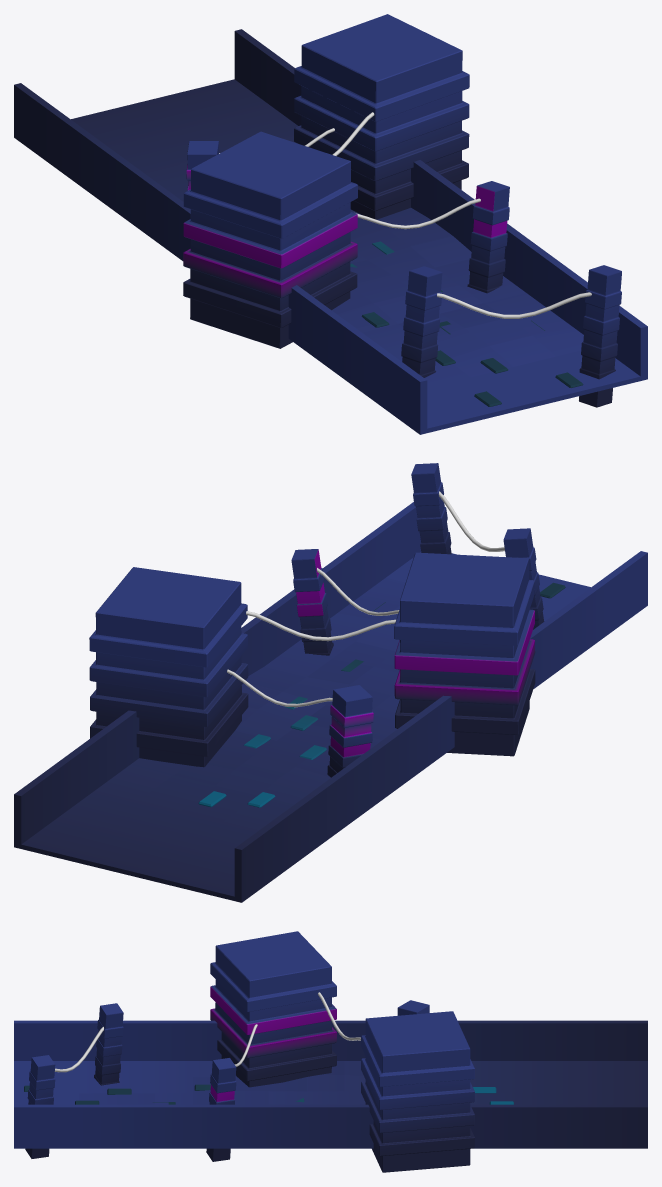
Rendered from Поле .fbx.
The picture shows the model from 3 angles, top to bottom: view 1: azimuth 30°, elevation 25°; view 2: azimuth 150°, elevation 25°; view 3: azimuth 270°, elevation 25°; orthographic projection. The views are drawn at different scales.
Parts seen in each view (by area): view 1: Cube, Cube.016, Cube.011, Cube.027, Cube.020, Cube.023, NurbsPath.006, Cube.038, Cube.014; view 2: Cube, Cube.011, Cube.016, Cube.014, Cube.020, Cube.027, NurbsPath.006, Cube.038, Cube.023; view 3: Cube, Cube.011, Cube.016, Cube.023, Cube.027, Cube.020, Cube.038, NurbsPath.006, Cube.014.
Boxes of the visible parts, x1,y1,x2,y2 form: Cube: (14, 29, 647, 434); Cube.016: (183, 131, 357, 348); Cube.011: (294, 14, 469, 219); Cube.027: (579, 265, 621, 407); Cube.020: (467, 181, 509, 293); Cube.023: (401, 266, 442, 377); NurbsPath.006: (219, 112, 591, 318); Cube.038: (350, 241, 583, 406); Cube.014: (186, 141, 219, 190); Cube: (14, 502, 647, 902); Cube.011: (89, 567, 248, 767); Cube.016: (394, 552, 535, 756); Cube.014: (327, 685, 373, 777); Cube.020: (291, 549, 333, 655); Cube.027: (411, 463, 451, 554); NurbsPath.006: (227, 491, 504, 707); Cube.038: (198, 582, 565, 807); Cube.023: (503, 528, 544, 629); Cube: (14, 1020, 647, 1148); Cube.011: (361, 1011, 474, 1172); Cube.016: (210, 931, 336, 1087); Cube.023: (94, 1003, 123, 1085); Cube.027: (25, 1055, 55, 1158); Cube.020: (206, 1058, 236, 1161); Cube.038: (24, 1084, 513, 1104); NurbsPath.006: (54, 992, 360, 1072); Cube.014: (397, 1000, 429, 1015).
Size of the model in its own units: 15603 by 7606 by 32500.
